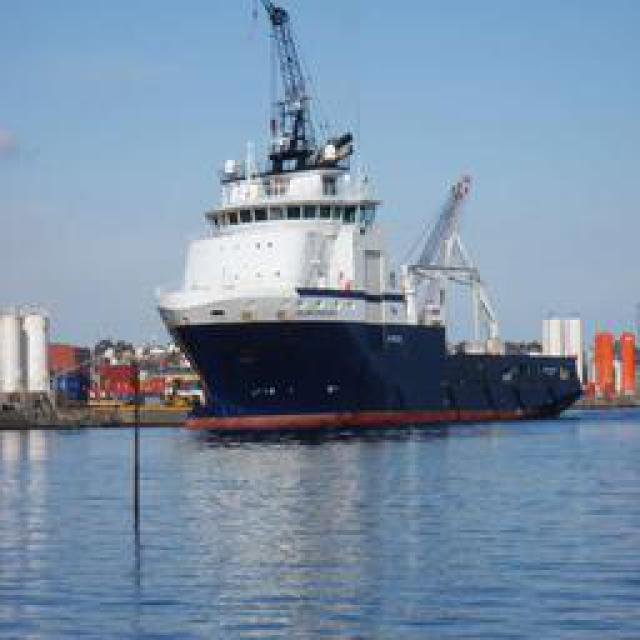Ship: (159, 7, 594, 425)
